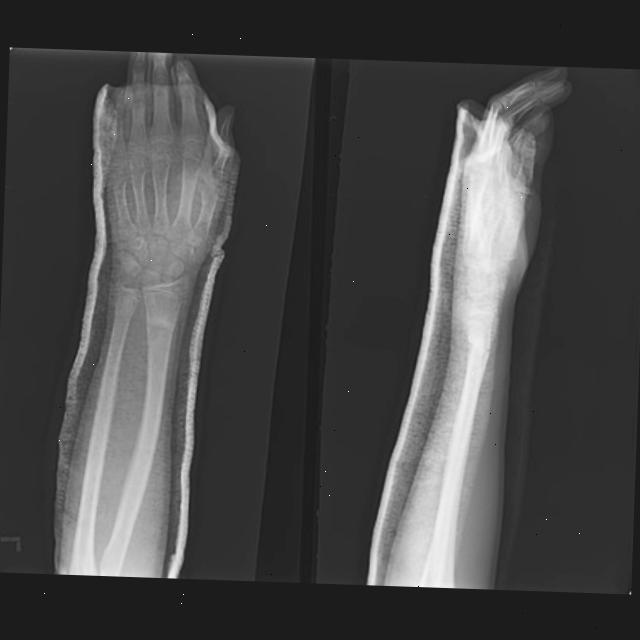fractured: (145, 310, 176, 344), (466, 330, 491, 371)
